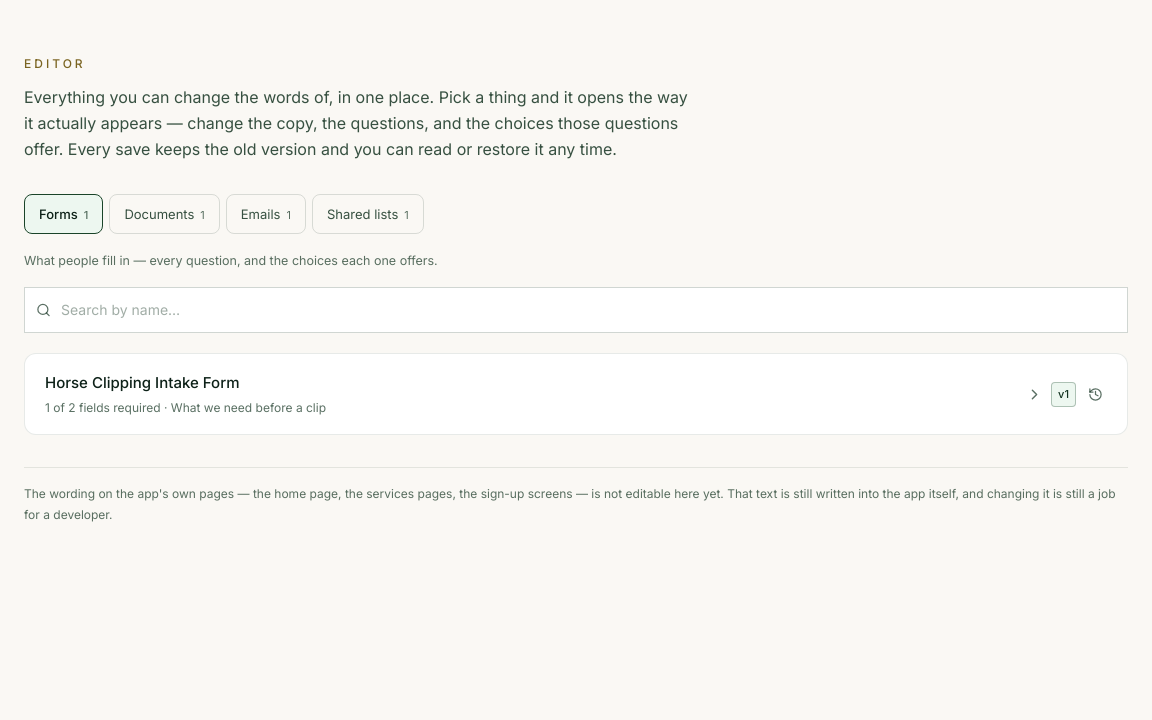
Test: TASK-SURFACEEDITOR — the editor entry page › opens the form IN PLACE — the entry list is still there
Step 1. Click the text "Horse Clipping Intake Form" → [142, 383], box [45, 373, 240, 392]
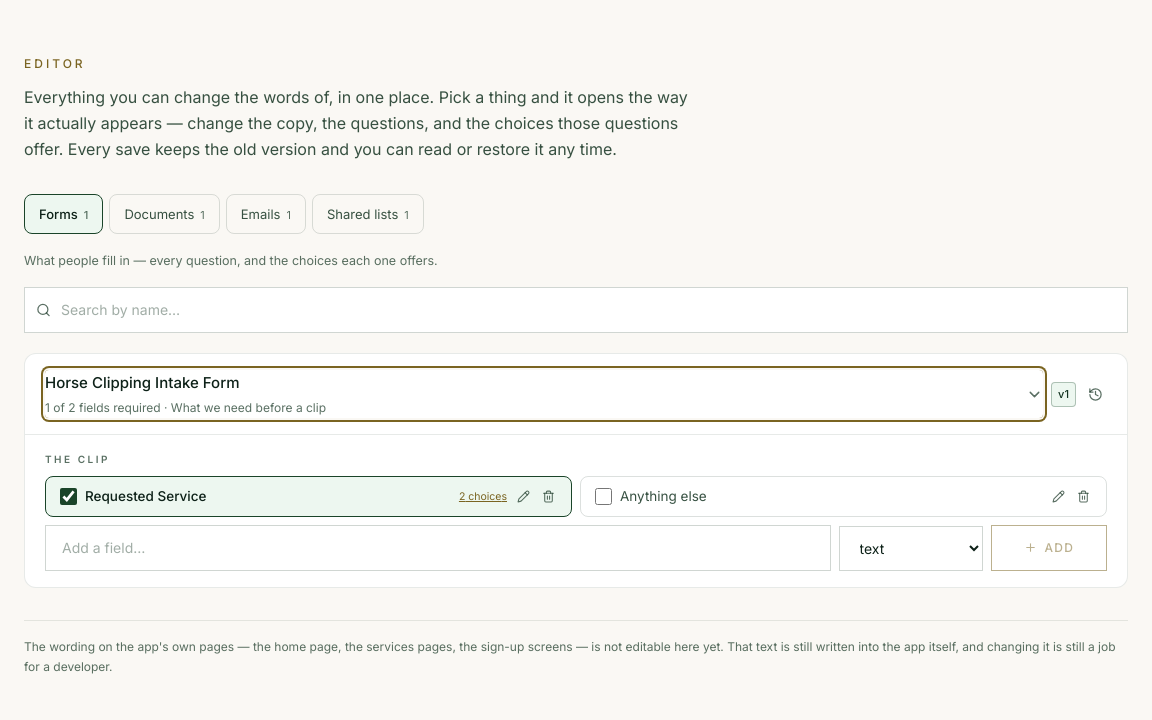
Expected: the field with placeholder "Search by name…" is shown, [24, 287, 1128, 333]
Result: the text titled "Requested Service · select" is shown at [85, 488, 206, 504]
